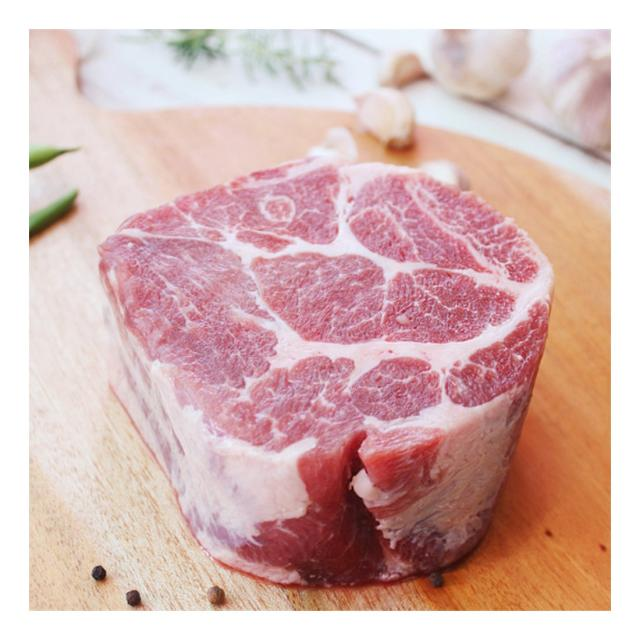pork: (57, 114, 549, 558)
